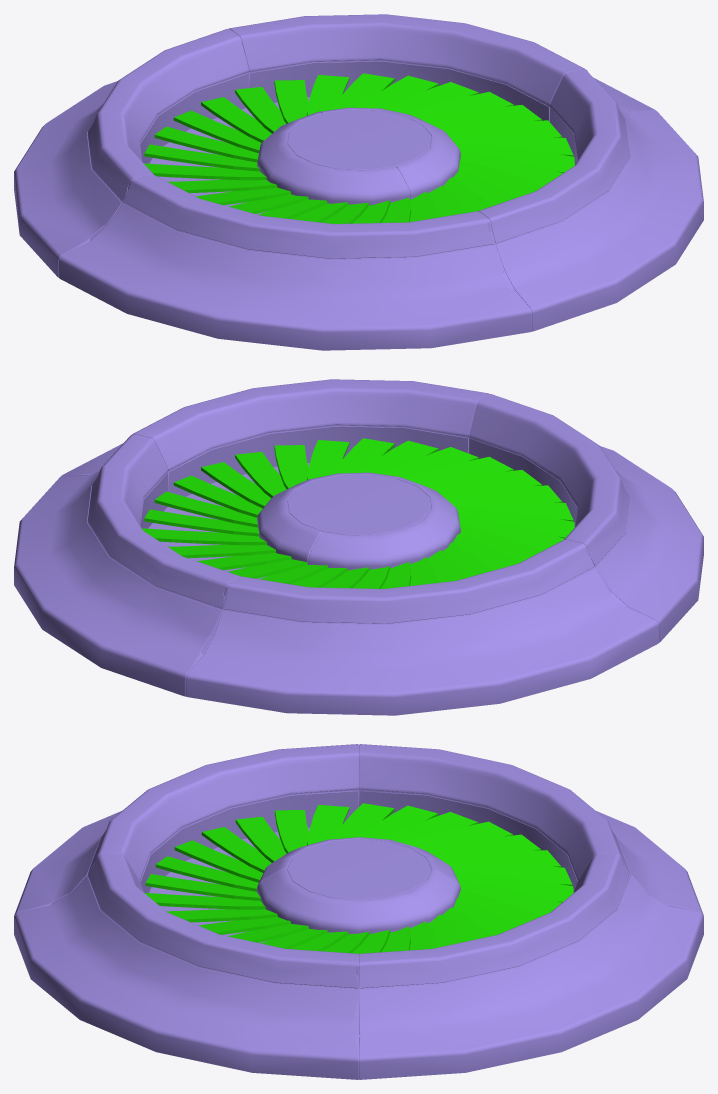
The model's file is Fan_prop.fbx.
3 renders of one model, top to bottom at view 1: azimuth 30°, elevation 25°; view 2: azimuth 150°, elevation 25°; view 3: azimuth 270°, elevation 25°, orthographic.
Parts seen in each view (by area): view 1: Vent_Prop, Fan_Blades; view 2: Vent_Prop, Fan_Blades; view 3: Vent_Prop, Fan_Blades.
Boxes of the visible parts, box(x1,y1,x2,y2) form: Vent_Prop: box(14, 14, 703, 350); Fan_Blades: box(144, 73, 574, 223); Vent_Prop: box(14, 379, 703, 715); Fan_Blades: box(142, 438, 574, 588); Vent_Prop: box(14, 744, 703, 1079); Fan_Blades: box(144, 803, 573, 954).
Bounding box in the file's own units: 204 × 26.41 × 204.
